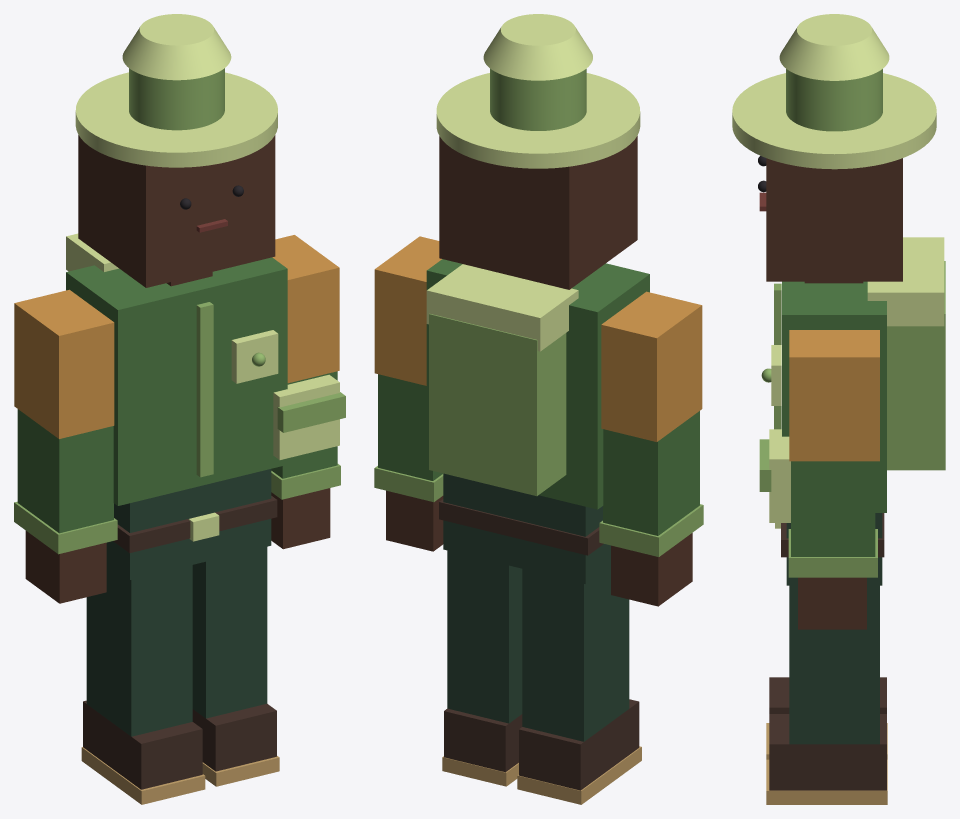
Rendered from fern_garden_ranger.glb.
3 views of the same model, side by side, from view 1: azimuth 30°, elevation 25°; view 2: azimuth 150°, elevation 25°; view 3: azimuth 270°, elevation 25° (orthographic).
Visible parts, largest first — view 1: fern_garden_ranger_torso, fern_garden_ranger_head, fern_garden_ranger_left_leg, fern_garden_ranger_left_upper_sleeve, fern_garden_ranger_right_leg, fern_garden_ranger_hat_brim, fern_garden_ranger_left_forearm, fern_garden_ranger_waist, fern_garden_ranger_right_upper_sleeve, fern_garden_ranger_left_boot, fern_garden_ranger_hat_top, fern_garden_ranger_hat_crown (+15 smaller); view 2: fern_garden_ranger_head, fern_garden_ranger_backpack, fern_garden_ranger_left_leg, fern_garden_ranger_left_upper_sleeve, fern_garden_ranger_right_leg, fern_garden_ranger_hat_brim, fern_garden_ranger_torso, fern_garden_ranger_waist, fern_garden_ranger_left_forearm, fern_garden_ranger_backpack_flap, fern_garden_ranger_right_upper_sleeve, fern_garden_ranger_left_boot (+11 smaller); view 3: fern_garden_ranger_head, fern_garden_ranger_right_upper_sleeve, fern_garden_ranger_right_leg, fern_garden_ranger_hat_brim, fern_garden_ranger_backpack, fern_garden_ranger_right_forearm, fern_garden_ranger_torso, fern_garden_ranger_right_boot, fern_garden_ranger_hat_top, fern_garden_ranger_backpack_flap, fern_garden_ranger_hat_crown, fern_garden_ranger_right_hand (+9 smaller).
Boxes of the visible parts, box(x1,y1,x2,y2) form: fern_garden_ranger_torso: box(66, 257, 287, 505); fern_garden_ranger_head: box(78, 135, 275, 287); fern_garden_ranger_left_leg: box(86, 563, 192, 736); fern_garden_ranger_left_upper_sleeve: box(14, 289, 114, 438); fern_garden_ranger_right_leg: box(192, 547, 267, 718); fern_garden_ranger_hat_brim: box(75, 72, 277, 167); fern_garden_ranger_left_forearm: box(17, 409, 113, 533); fern_garden_ranger_waist: box(106, 469, 271, 579); fern_garden_ranger_right_upper_sleeve: box(272, 235, 339, 383); fern_garden_ranger_left_boot: box(83, 700, 202, 789); fern_garden_ranger_hat_top: box(122, 14, 231, 80); fern_garden_ranger_hat_crown: box(129, 68, 224, 130); fern_garden_ranger_head: box(439, 136, 637, 289); fern_garden_ranger_backpack: box(429, 313, 566, 496); fern_garden_ranger_left_leg: box(522, 566, 629, 741); fern_garden_ranger_left_upper_sleeve: box(601, 291, 702, 441); fern_garden_ranger_right_leg: box(447, 550, 522, 723); fern_garden_ranger_hat_brim: box(436, 73, 640, 168); fern_garden_ranger_torso: box(426, 259, 649, 509); fern_garden_ranger_waist: box(443, 473, 610, 583); fern_garden_ranger_left_forearm: box(603, 411, 699, 535); fern_garden_ranger_backpack_flap: box(426, 264, 578, 351); fern_garden_ranger_right_upper_sleeve: box(374, 236, 441, 385); fern_garden_ranger_left_boot: box(519, 699, 639, 790); fern_garden_ranger_head: box(766, 158, 902, 281); fern_garden_ranger_right_upper_sleeve: box(789, 330, 879, 461); fern_garden_ranger_right_leg: box(789, 585, 879, 744); fern_garden_ranger_hat_brim: box(732, 73, 936, 169); fern_garden_ranger_backpack: box(887, 261, 945, 470); fern_garden_ranger_right_forearm: box(791, 461, 875, 556); fern_garden_ranger_torso: box(782, 281, 886, 512); fern_garden_ranger_right_boot: box(769, 714, 886, 790); fern_garden_ranger_hat_top: box(779, 14, 889, 80); fern_garden_ranger_backpack_flap: box(867, 237, 944, 326); fern_garden_ranger_hat_crown: box(786, 69, 882, 131); fern_garden_ranger_right_hand: box(798, 577, 866, 629).
Bounding box in the file's own units: 0.516 × 1.28 × 0.334.
